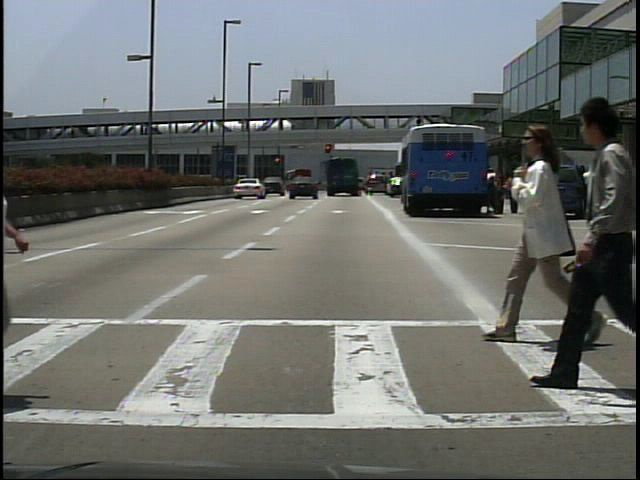person: (524, 77, 640, 395), (490, 116, 587, 349), (582, 168, 602, 218), (485, 162, 502, 215), (505, 166, 523, 216)
